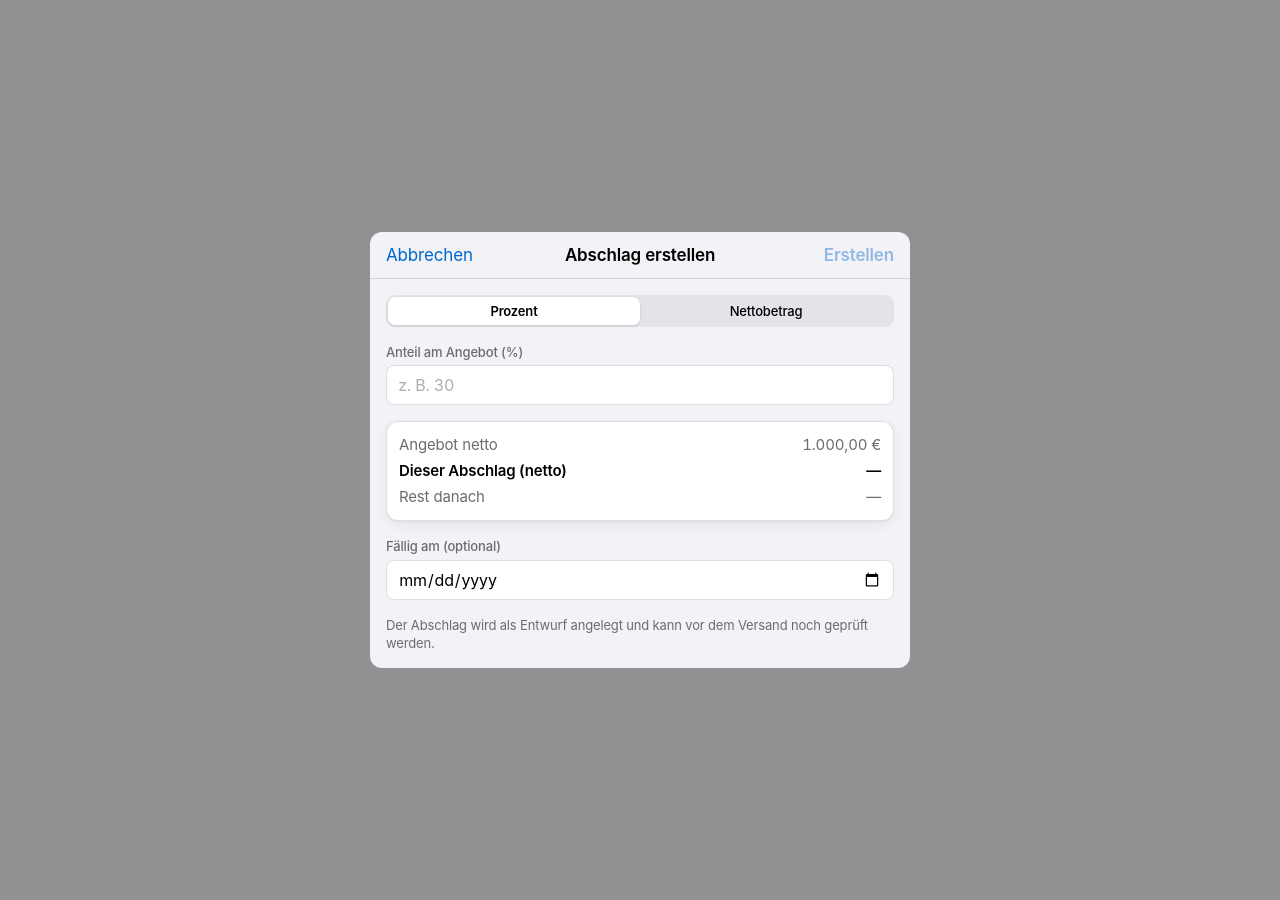
AbschlagSheet › sperrt Erstellen ohne Eingabe und zeigt die Live-Vorschau für Prozent
The image size is (1280, 900).
Expected: the button "Erstellen" is disabled, [824,244,894,266]
In the field labelled "Anteil am Angebot (%)": [640, 385] box [386,365,894,405], type "30"
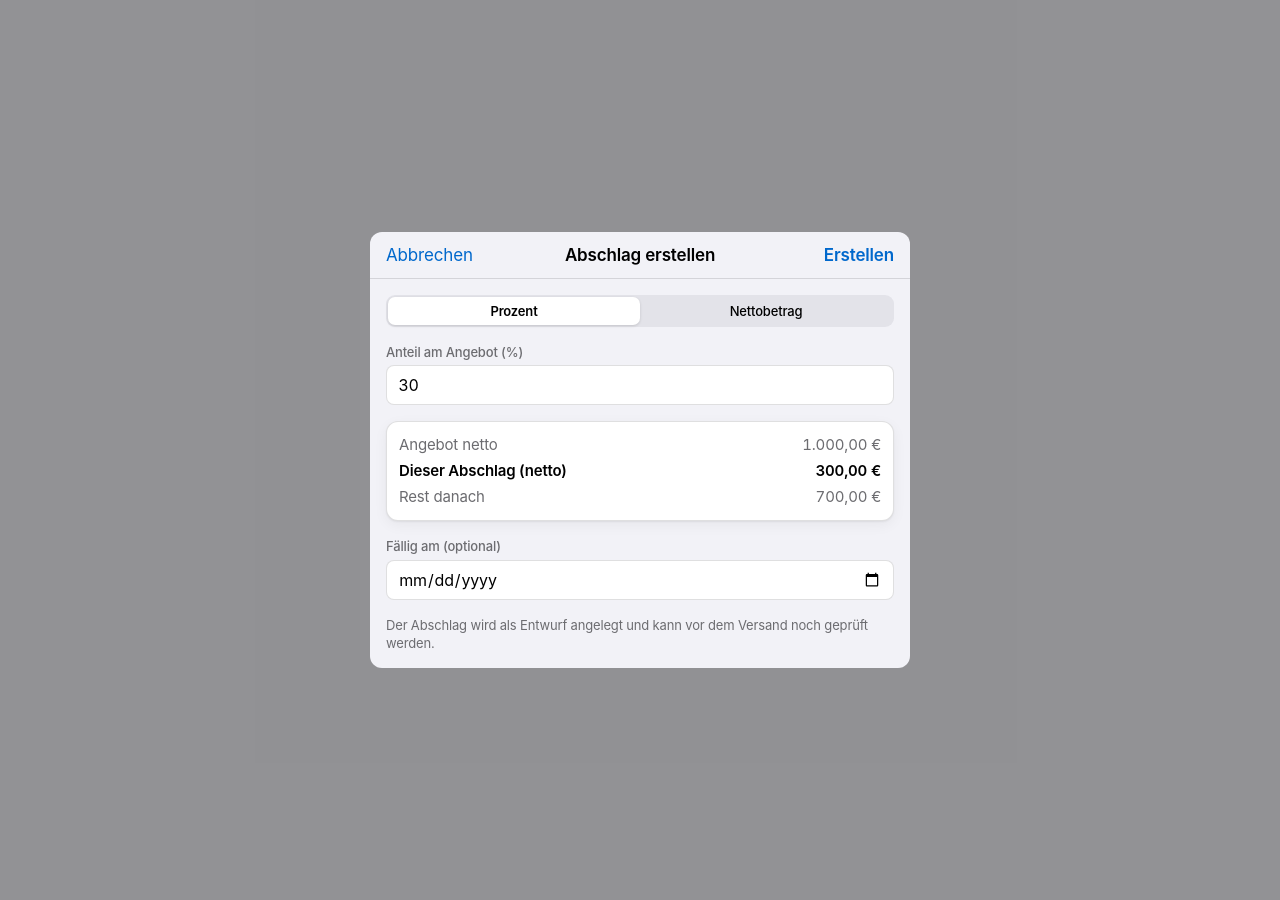
Expected: the button "Erstellen" is enabled, [824,244,894,266]
